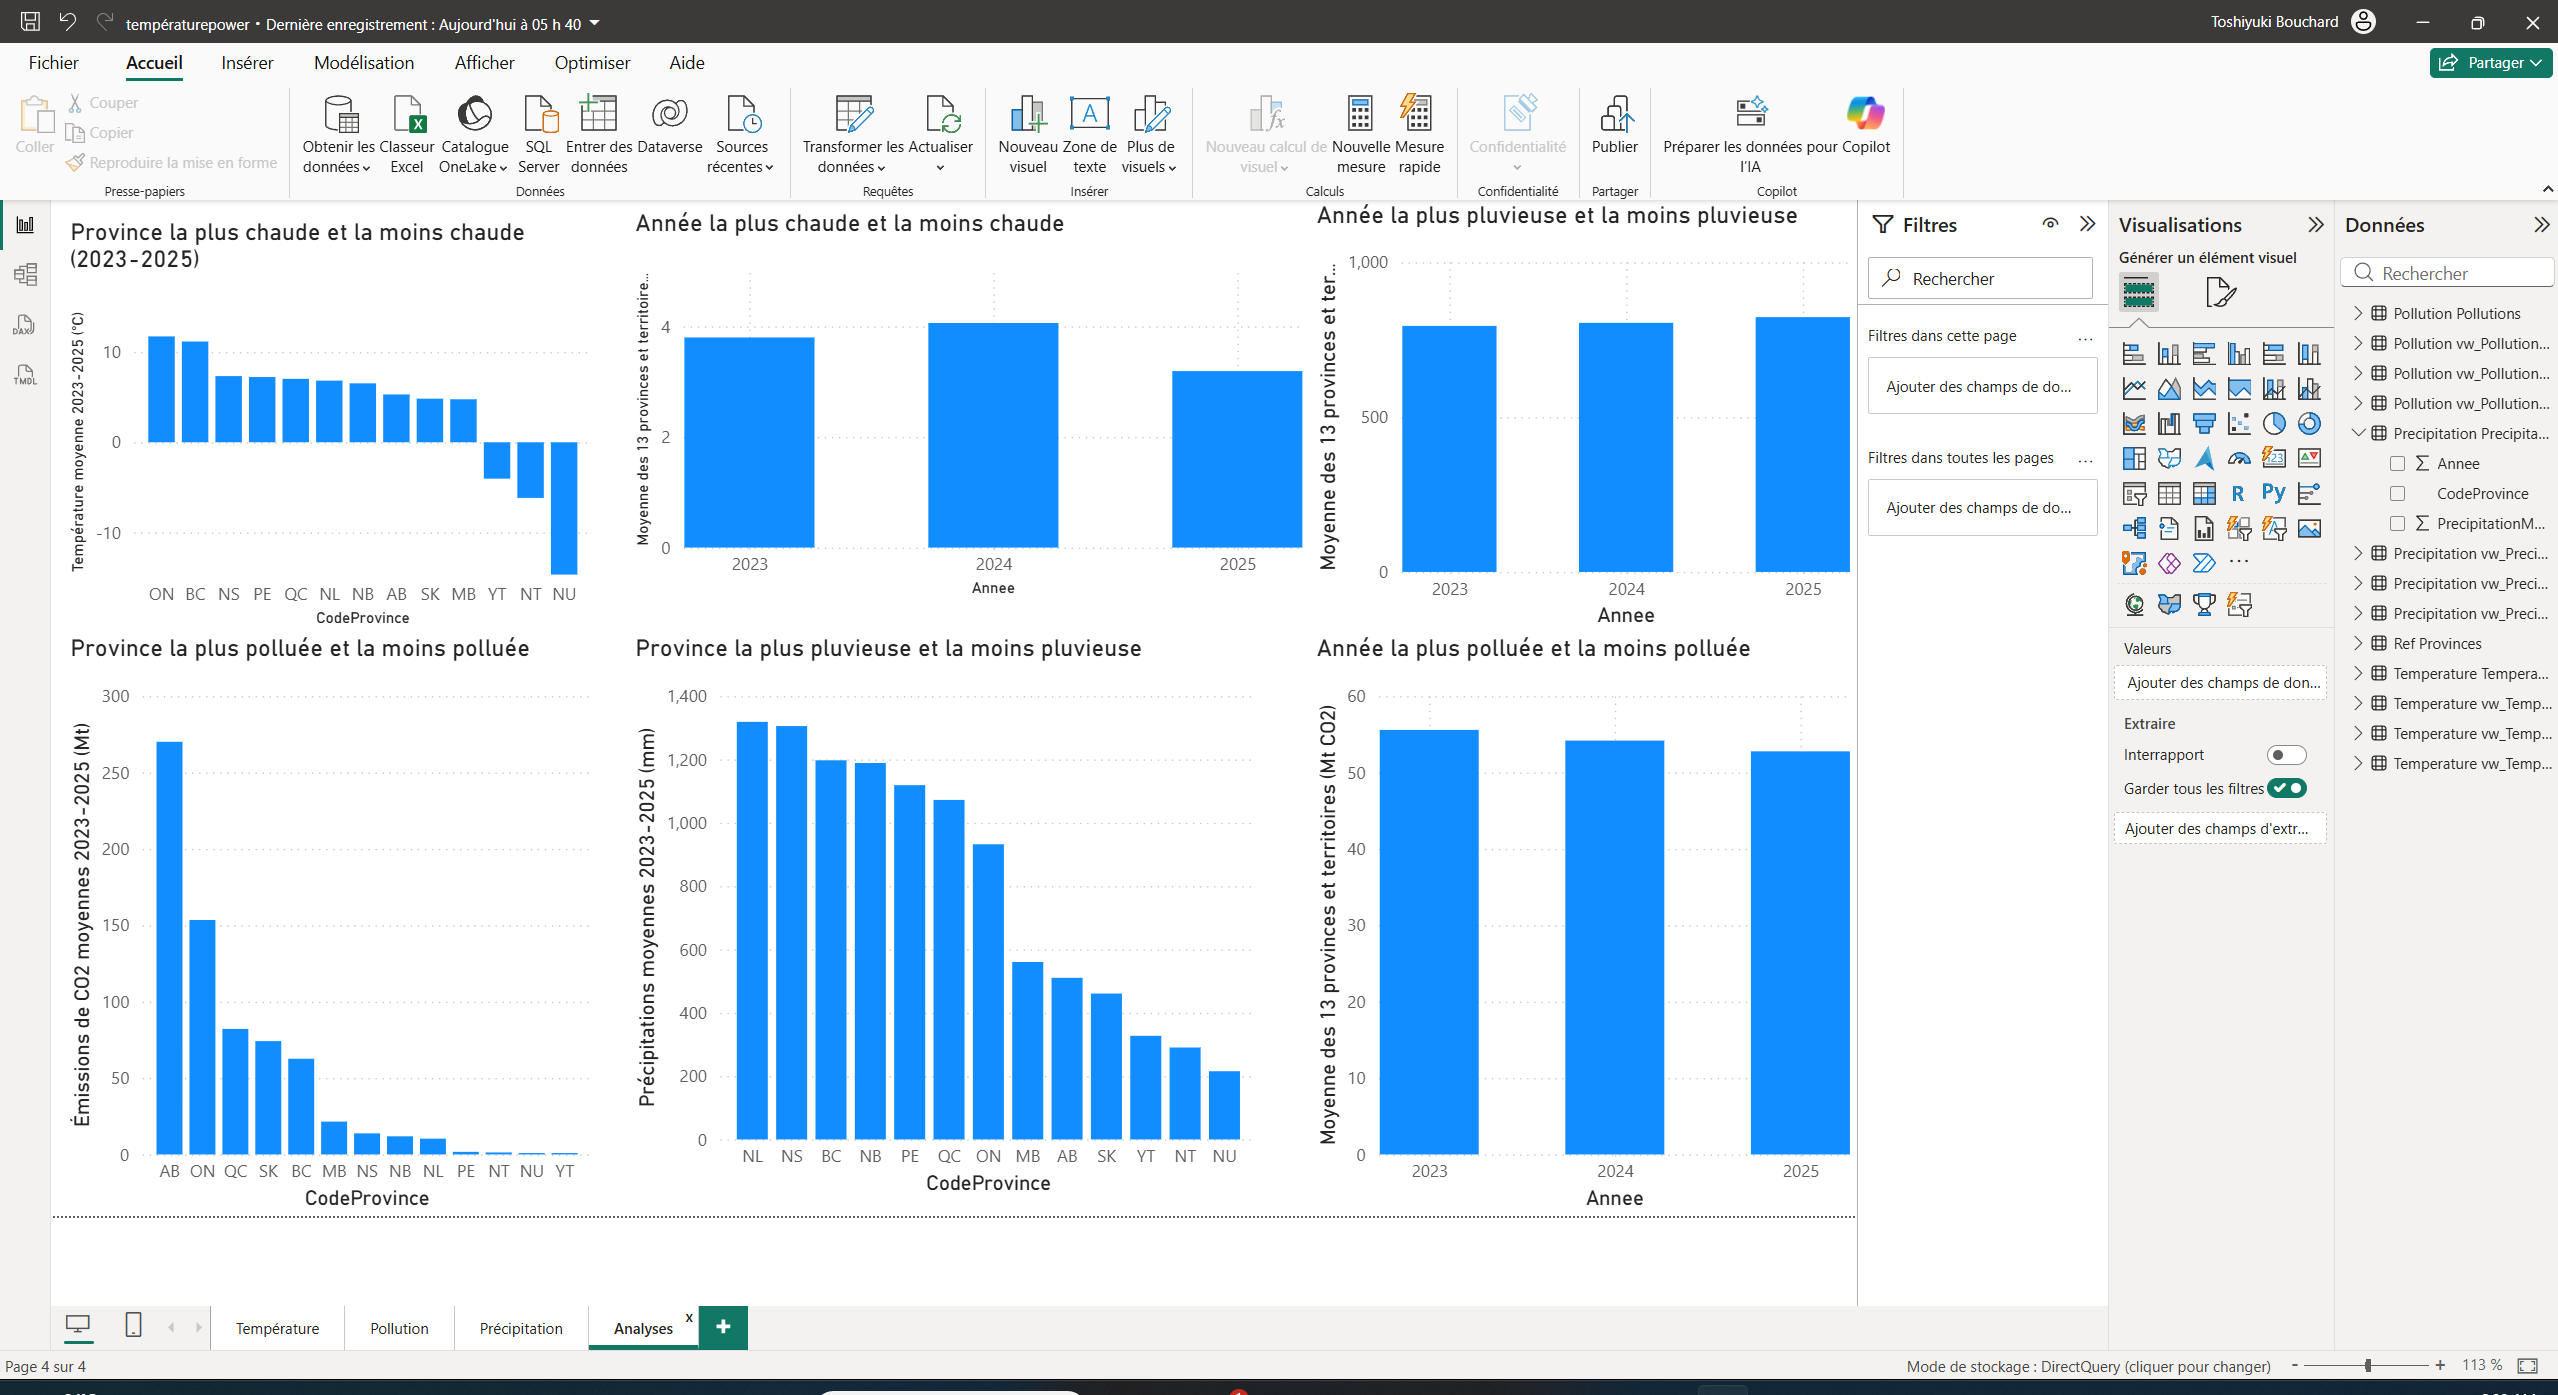

The page's visual inventory and layout, read from the dashboard file:
{"tool":"powerbi","page":{"name":"Analyses","canvas":[1280,720],"ordinal":3},"visuals":[{"type":"clusteredColumnChart","title":"Province la plus chaude et la moins chaude (2023-2025)","fields":{"Category":["Temperature Temperatures.CodeProvince"],"Y":["Avg(Temperature Temperatures.TemperatureMoyenne)"]},"box":[8.9,12.4,379.2,295],"z":0},{"type":"clusteredColumnChart","title":"Année la plus chaude et la moins chaude","fields":{"Category":["Temperature Temperatures.Annee"],"Y":["Avg(Temperature Temperatures.TemperatureMoyenne)"]},"box":[409.3,6.2,482.8,280],"z":1000},{"type":"clusteredColumnChart","title":"Année la plus pluvieuse et la moins pluvieuse","fields":{"Category":["Precipitation Precipitations.Annee"],"Y":["Avg(Precipitation Precipitations.PrecipitationMoyenne)"]},"box":[892.1,0,388,307.4],"z":1001},{"type":"clusteredColumnChart","title":"Année la plus polluée et la moins polluée","fields":{"Category":["Pollution Pollutions.Annee"],"Y":["Avg(Pollution Pollutions.EmissionCO2)"]},"box":[892.1,307.4,388,412.8],"z":1002},{"type":"clusteredColumnChart","title":"Province la plus polluée et la moins polluée","fields":{"Category":["Pollution Pollutions.CodeProvince"],"Y":["Avg(Pollution Pollutions.EmissionCO2)"]},"box":[8.9,307.4,379.2,412.8],"z":1003},{"type":"clusteredColumnChart","title":"Province la plus pluvieuse et la moins pluvieuse","fields":{"Category":["Precipitation Precipitations.CodeProvince"],"Y":["Avg(Precipitation Precipitations.PrecipitationMoyenne)"]},"box":[409.3,307.4,450.1,402.2],"z":1004}]}

Visuals, with their boxes on the page's 1280x720 design canvas (x1, y1, x2, y2). These are canvas units, not pixel positions in the 2558x1395 screenshot, which may show the page scaled, cropped or inside an application window:
"Province la plus chaude et la moins chaude (2023-2025)" clusteredColumnChart: 9,12,388,307
"Année la plus chaude et la moins chaude" clusteredColumnChart: 409,6,892,286
"Année la plus pluvieuse et la moins pluvieuse" clusteredColumnChart: 892,0,1280,307
"Année la plus polluée et la moins polluée" clusteredColumnChart: 892,307,1280,720
"Province la plus polluée et la moins polluée" clusteredColumnChart: 9,307,388,720
"Province la plus pluvieuse et la moins pluvieuse" clusteredColumnChart: 409,307,859,710
